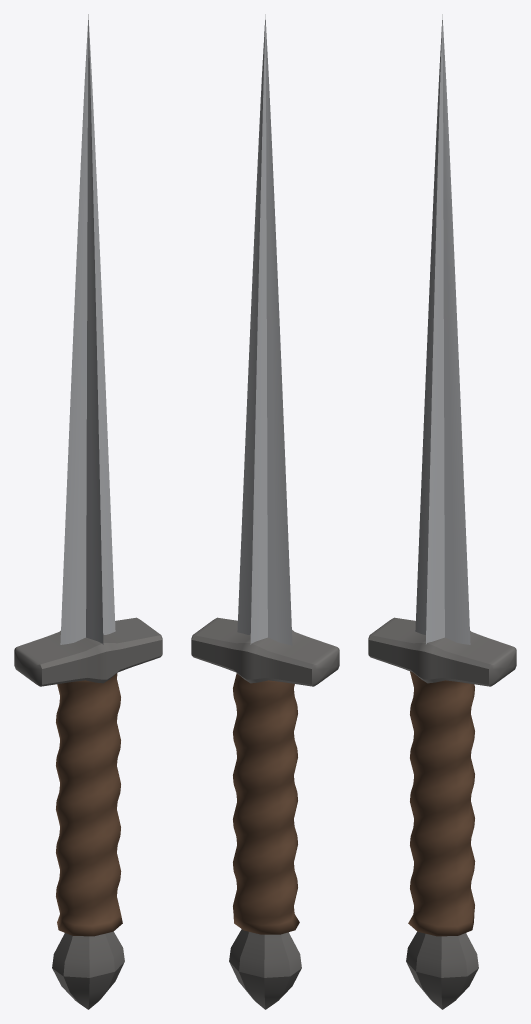
File: quadrens.glb
3 views of the same model, side by side, from view 1: azimuth 30°, elevation 25°; view 2: azimuth 150°, elevation 25°; view 3: azimuth 330°, elevation 25° (orthographic).
Visible parts, largest first — view 1: quadrens; view 2: quadrens; view 3: quadrens.
Boxes of the visible parts, left/top/right/bottom form: quadrens: left=14, top=14, right=162, bottom=1009; quadrens: left=191, top=14, right=339, bottom=1009; quadrens: left=368, top=14, right=516, bottom=1009.
Bounding box in the file's own units: 0.14 × 1.03 × 0.069.
